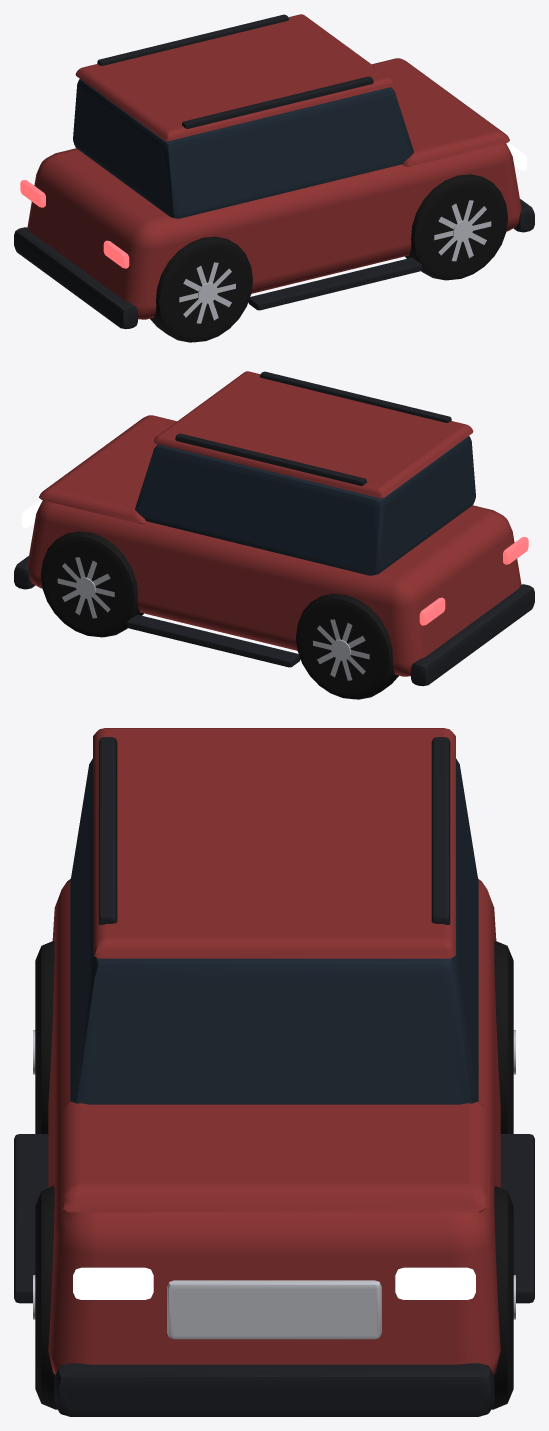
The model's file is suv.glb.
The picture shows the model from 3 angles, top to bottom: view 1: azimuth 30°, elevation 25°; view 2: azimuth 150°, elevation 25°; view 3: azimuth 270°, elevation 25°; orthographic projection. The views are drawn at different scales.
Parts seen in each view (by area): view 1: part-paint, part-glass, part-trim, wheel--11--1-tyre, wheel-+11--1-tyre, wheel-+11--1-hub, wheel--11--1-hub, part-taillight; view 2: part-paint, part-glass, part-trim, wheel--11-1-tyre, wheel-+11-1-tyre, wheel-+11-1-hub, wheel--11-1-hub, part-taillight; view 3: part-paint, part-glass, part-trim, part-chrome, wheel-+11-1-tyre, wheel-+11--1-tyre, wheel--11-1-tyre, wheel--11--1-tyre, headlight-1, headlight--1.
Part boxes in pixels (x1=…): part-paint: x1=27, y1=14, x2=521, y2=319; part-glass: x1=73, y1=79, x2=413, y2=218; part-trim: x1=14, y1=14, x2=534, y2=329; wheel--11--1-tyre: x1=150, y1=236, x2=252, y2=342; wheel-+11--1-tyre: x1=405, y1=174, x2=508, y2=280; wheel-+11--1-hub: x1=434, y1=200, x2=491, y2=261; wheel--11--1-hub: x1=179, y1=262, x2=235, y2=323; part-taillight: x1=20, y1=180, x2=129, y2=268; part-paint: x1=27, y1=371, x2=521, y2=676; part-glass: x1=135, y1=436, x2=475, y2=575; part-trim: x1=14, y1=371, x2=534, y2=686; wheel--11-1-tyre: x1=296, y1=593, x2=398, y2=699; wheel-+11-1-tyre: x1=40, y1=531, x2=143, y2=637; wheel-+11-1-hub: x1=57, y1=557, x2=114, y2=618; wheel--11-1-hub: x1=313, y1=619, x2=369, y2=680; part-taillight: x1=419, y1=537, x2=528, y2=625; part-paint: x1=48, y1=728, x2=500, y2=1375; part-glass: x1=70, y1=758, x2=478, y2=1104; part-trim: x1=14, y1=737, x2=534, y2=1416; part-chrome: x1=167, y1=1280, x2=381, y2=1339; wheel-+11-1-tyre: x1=491, y1=1186, x2=513, y2=1409; wheel-+11--1-tyre: x1=35, y1=1186, x2=57, y2=1409; wheel--11-1-tyre: x1=494, y1=940, x2=513, y2=1133; wheel--11--1-tyre: x1=35, y1=940, x2=54, y2=1133; headlight-1: x1=395, y1=1267, x2=475, y2=1299; headlight--1: x1=73, y1=1267, x2=153, y2=1299.
Bounding box in the file's own units: 35.2 × 17 × 19.4.
